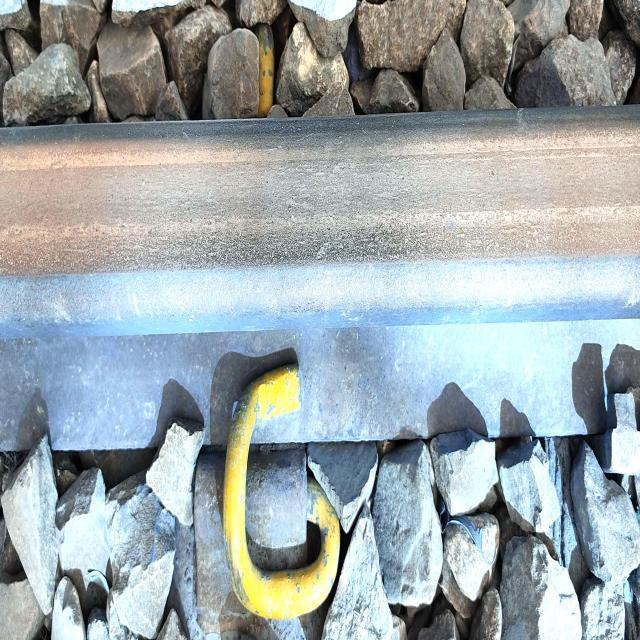Good Fasteners: (169, 332, 350, 640), (256, 24, 274, 117)
